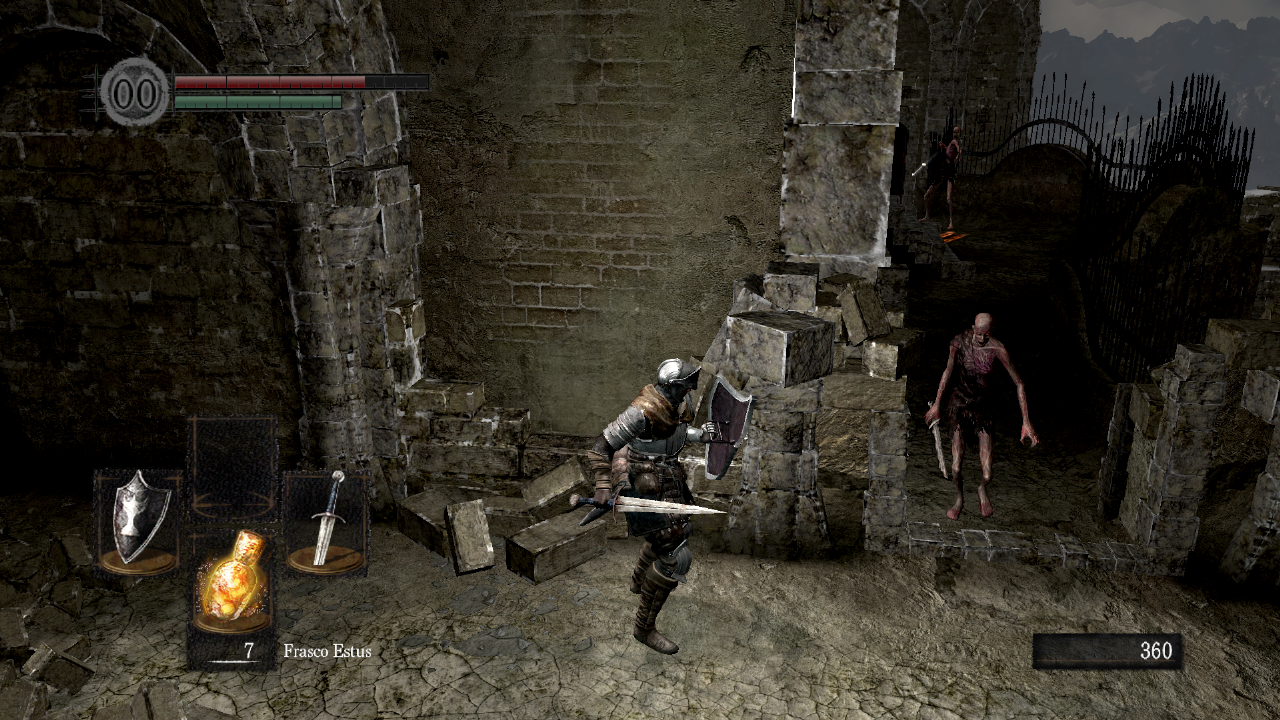hollow: (924, 313, 1041, 520), (919, 126, 962, 231)
player: (570, 357, 755, 655)
